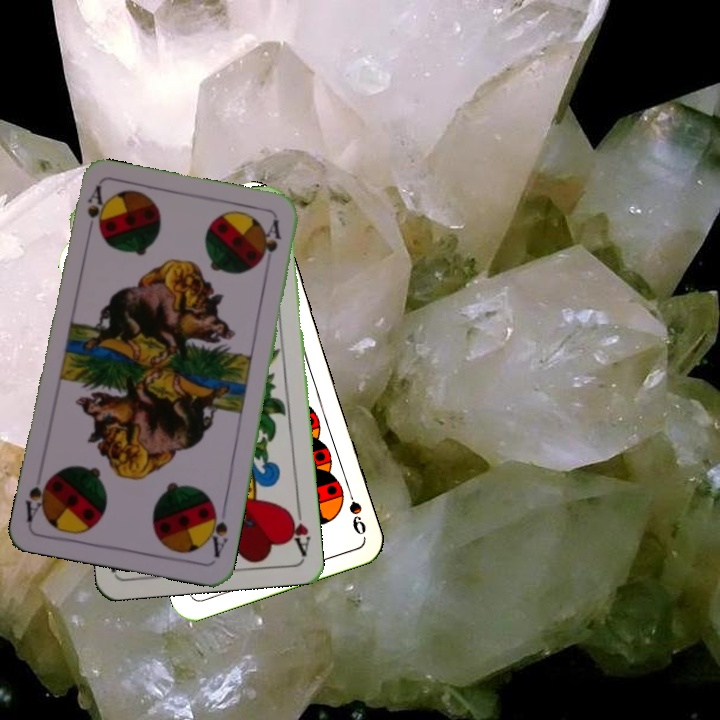HA: (283, 499, 313, 558)
S9: (342, 480, 369, 538)
SA: (203, 500, 231, 560), (82, 182, 106, 241)
